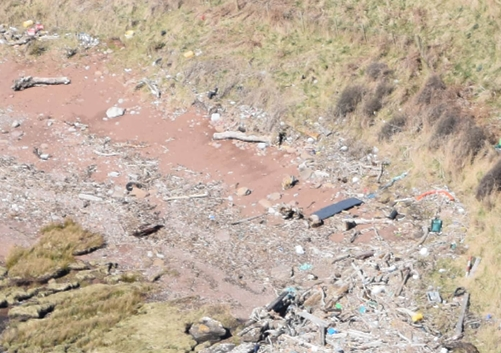scattered_barrel: (377, 158, 470, 238), (322, 293, 430, 344), (269, 238, 320, 300)
straight_bar: (303, 186, 371, 226), (207, 124, 275, 157), (3, 70, 75, 94)
white_in_green: (105, 157, 167, 213), (4, 1, 62, 52), (106, 8, 160, 58), (165, 26, 219, 76)
